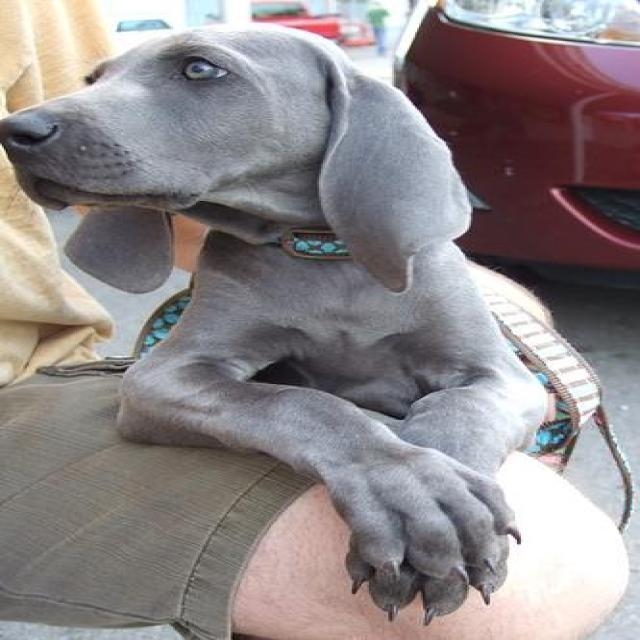puppy-dog: (1, 23, 554, 624)
